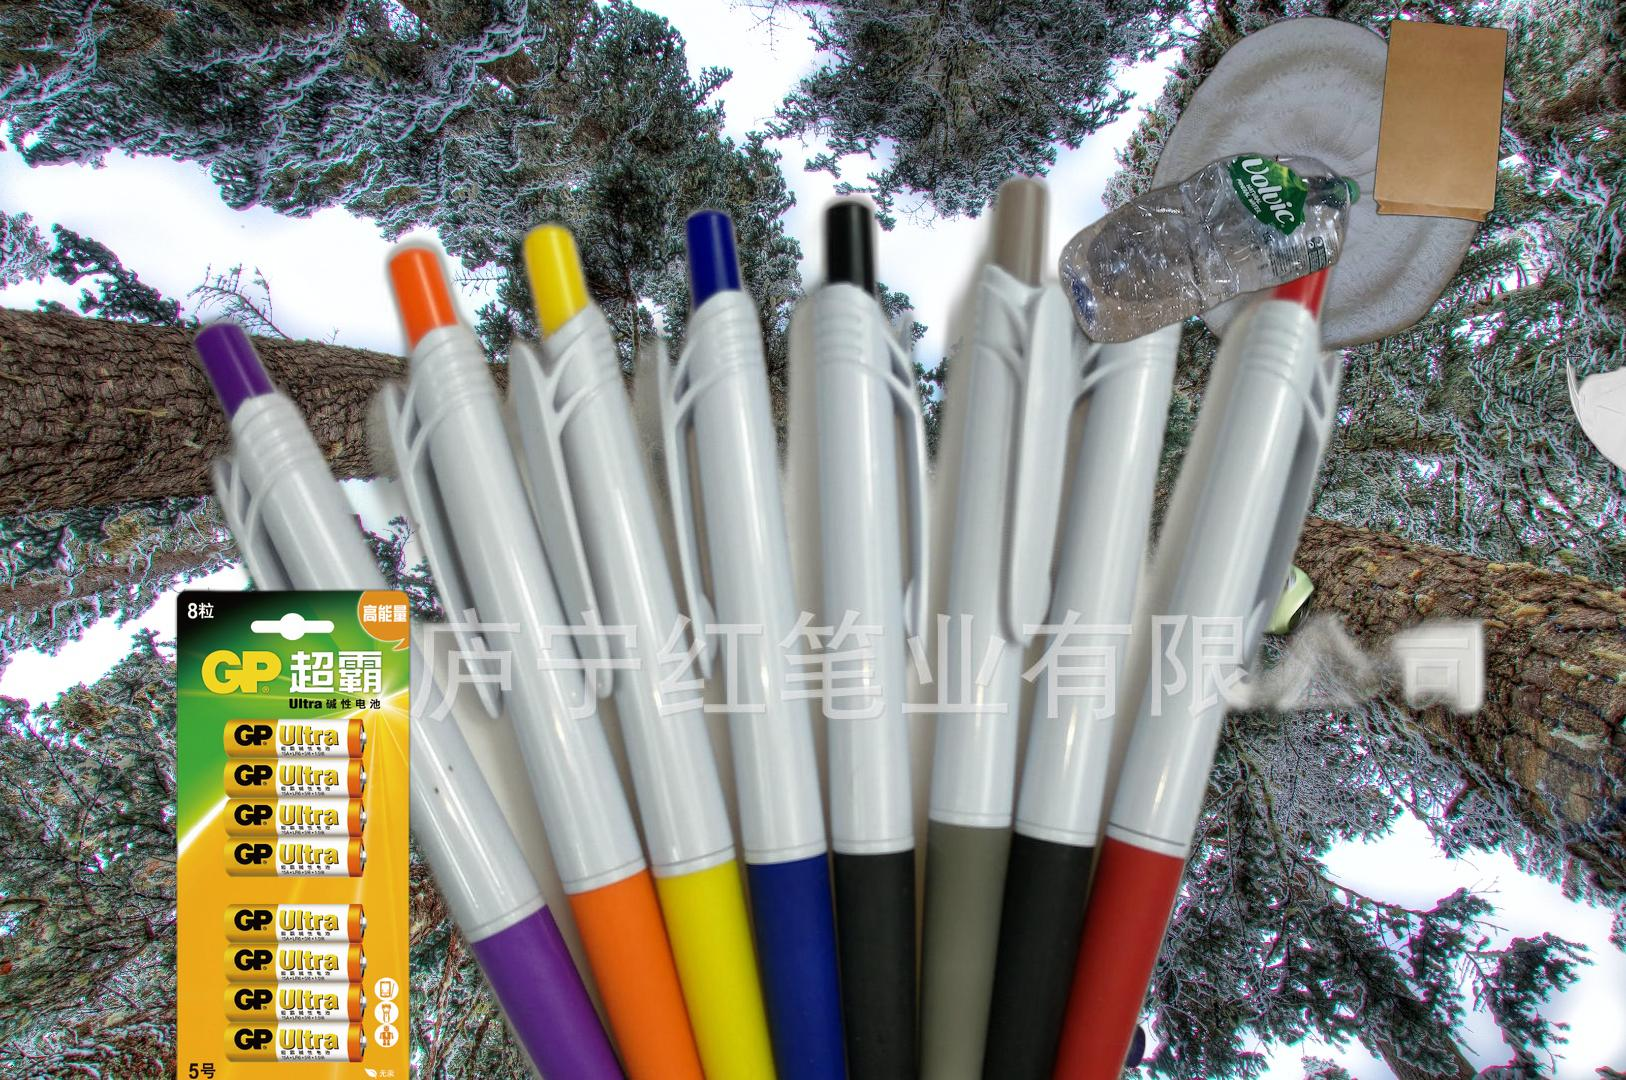battery: (171, 585, 415, 1080)
clothes: (1145, 8, 1492, 360)
metal-cans: (859, 506, 1320, 1080)
paper-bag: (1372, 16, 1511, 225)
penholder: (174, 160, 1502, 1080)
plastic-bottles: (827, 818, 1149, 1080), (1053, 149, 1364, 347)
trash: (1560, 345, 1626, 481)
